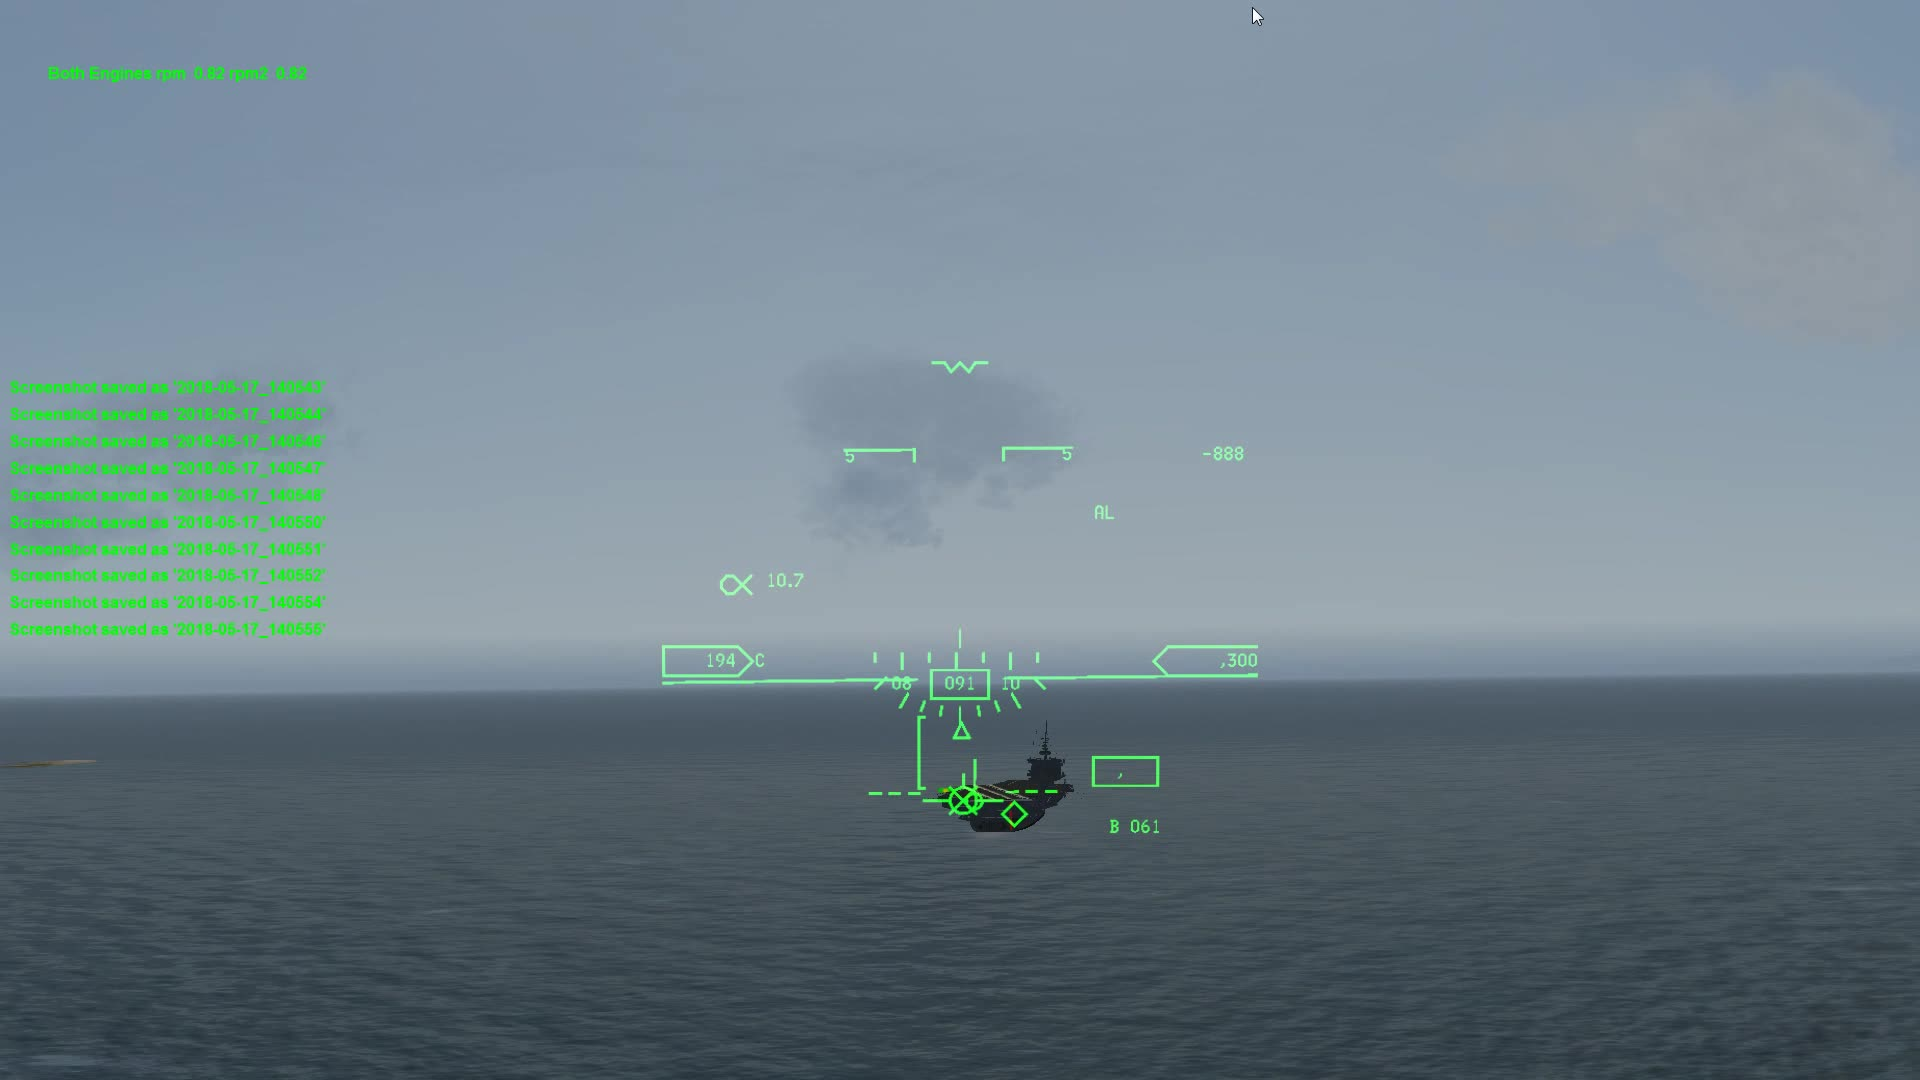speed vector: (924, 771, 998, 822)
